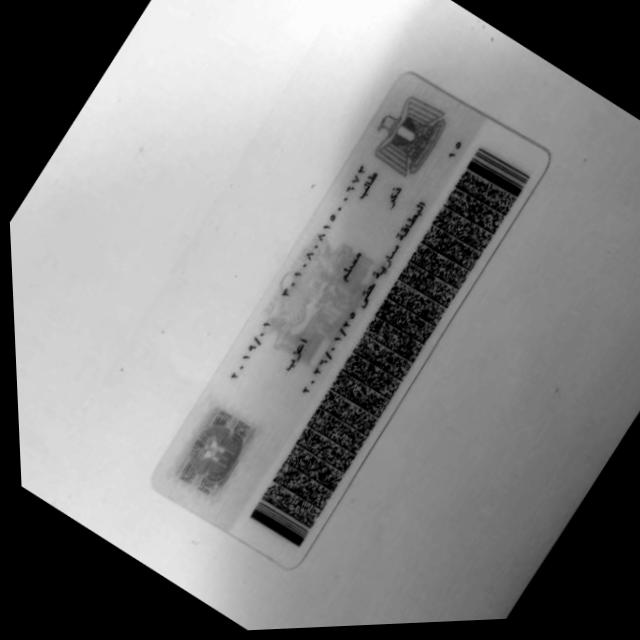back: (149, 73, 547, 569)
